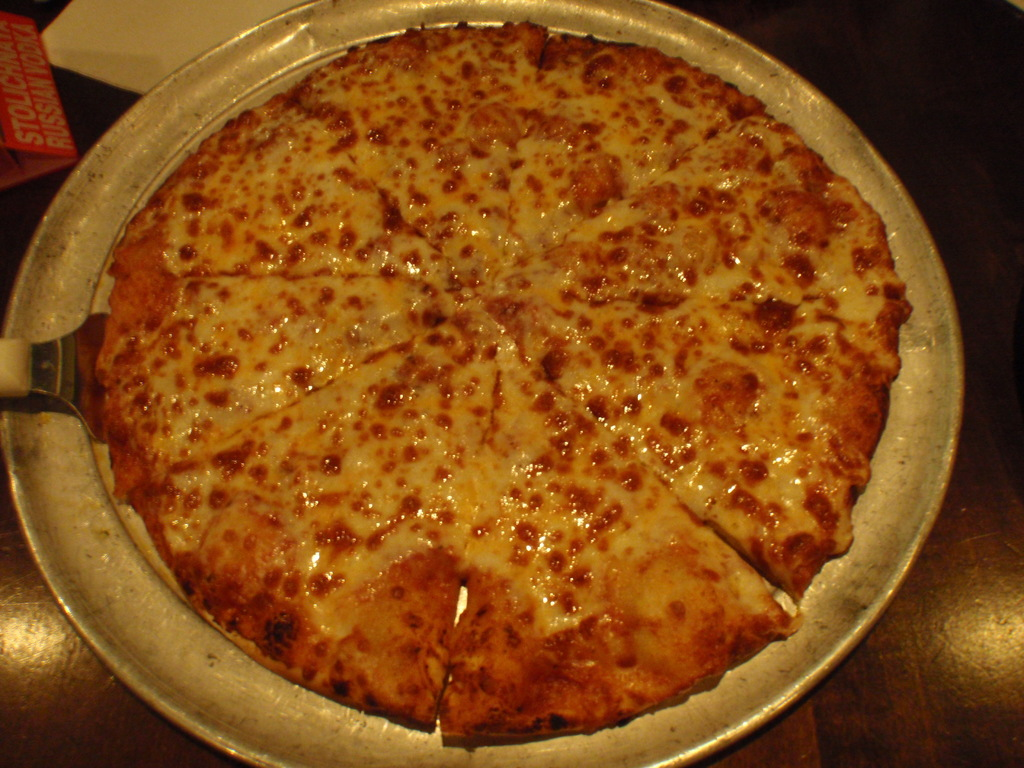Pizza: (101, 11, 904, 720)
